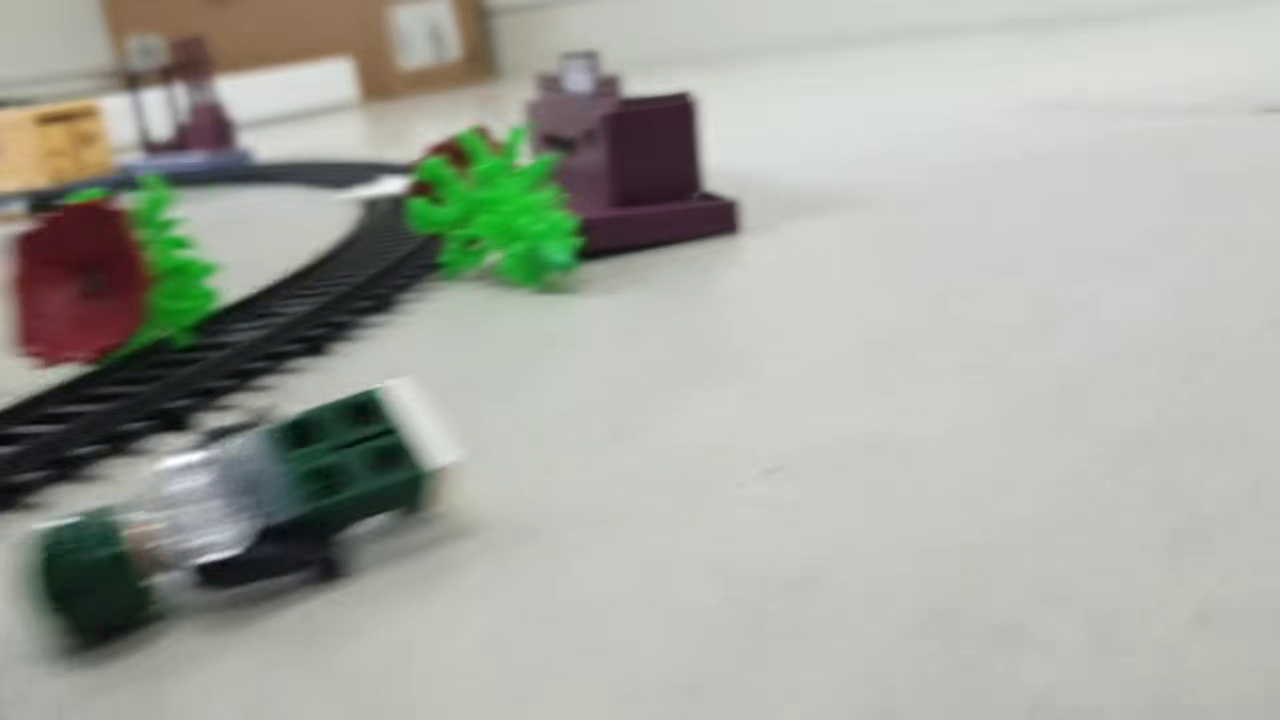people: (26, 377, 464, 656)
tree: (402, 119, 589, 293)
web: (13, 168, 225, 371), (339, 171, 429, 204)
